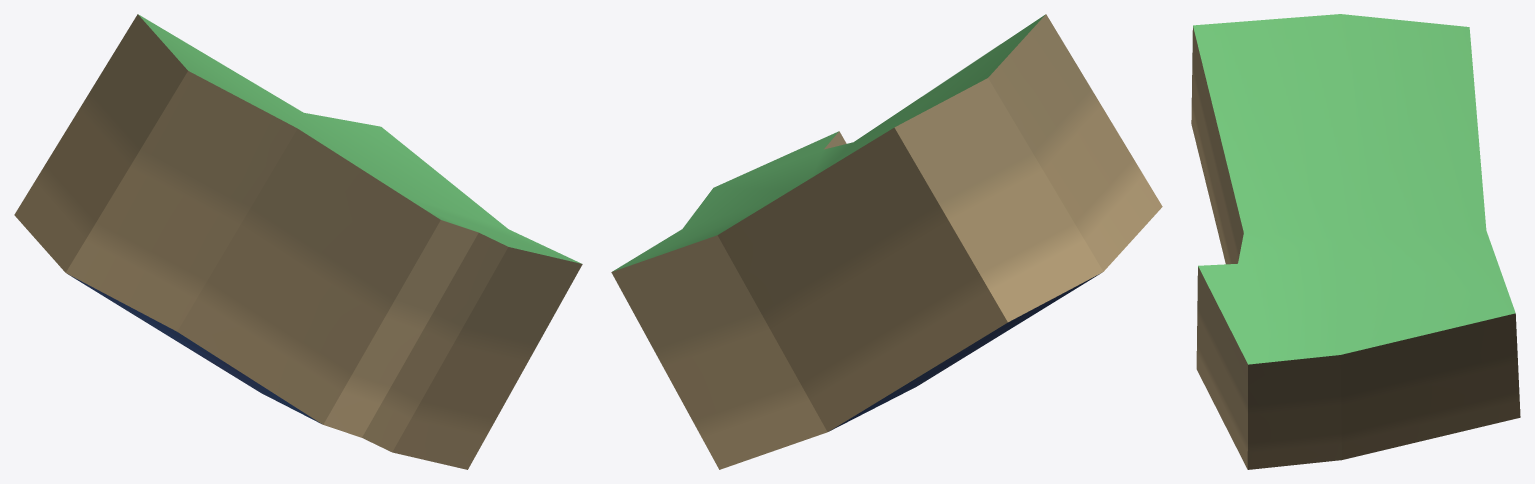
Rendered from 0636_Uganda.glb.
3 views of the same model, side by side, from view 1: azimuth 30°, elevation 25°; view 2: azimuth 150°, elevation 25°; view 3: azimuth 270°, elevation 25° (orthographic). The views are drawn at different scales.
Parts seen in each view (by area): view 1: part_0; view 2: part_0; view 3: part_0.
Part boxes in pixels (x1,y1,x2,y2): part_0: [14, 14, 582, 469]; part_0: [611, 14, 1162, 469]; part_0: [1191, 14, 1520, 469].
Size of the model in its own units: 0.451 by 0.3864 by 0.3199.
1 material, 1 textured.
